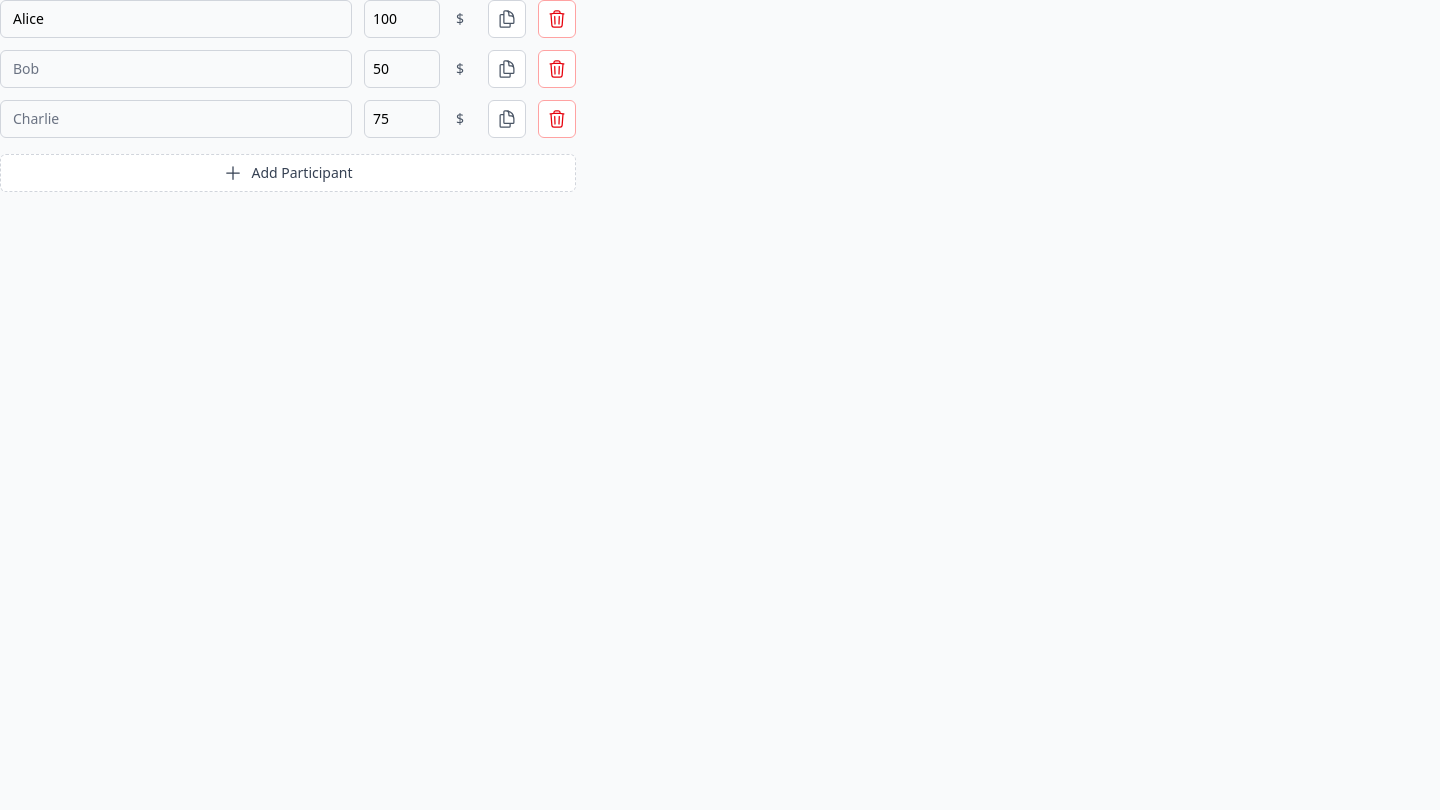
Scenario: ParticipantsList › cancels participant deletion when cancel is clicked
Click the button named "remove" at (557, 19), box [538, 0, 576, 38]
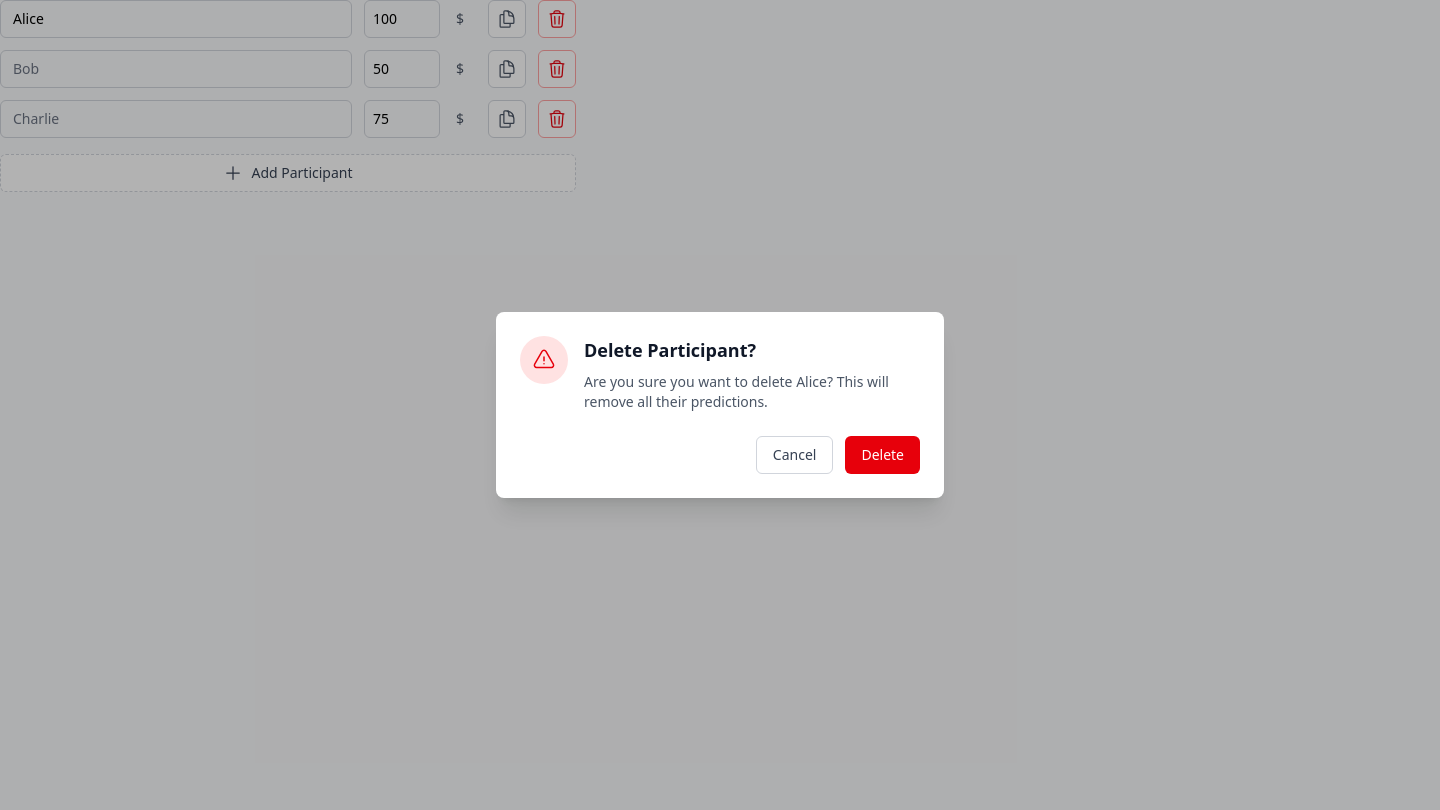
Note: Cancel deletion
Click the button "Cancel" at (795, 455), box [756, 436, 833, 474]
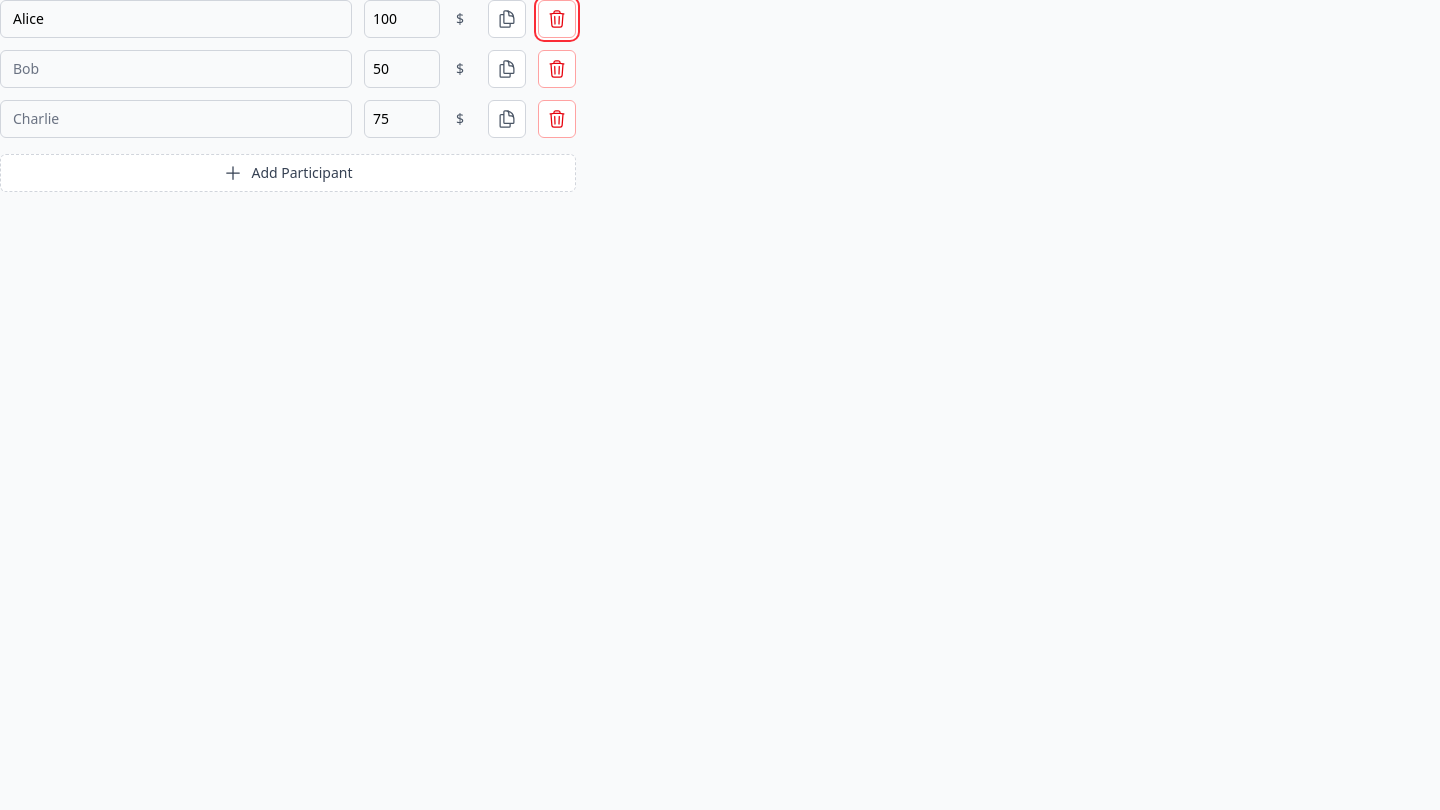
Expected: the heading "Delete Participant?" is gone
